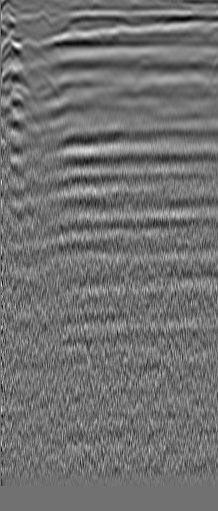오수: (33, 5, 53, 25)
우수: (171, 23, 191, 43)
